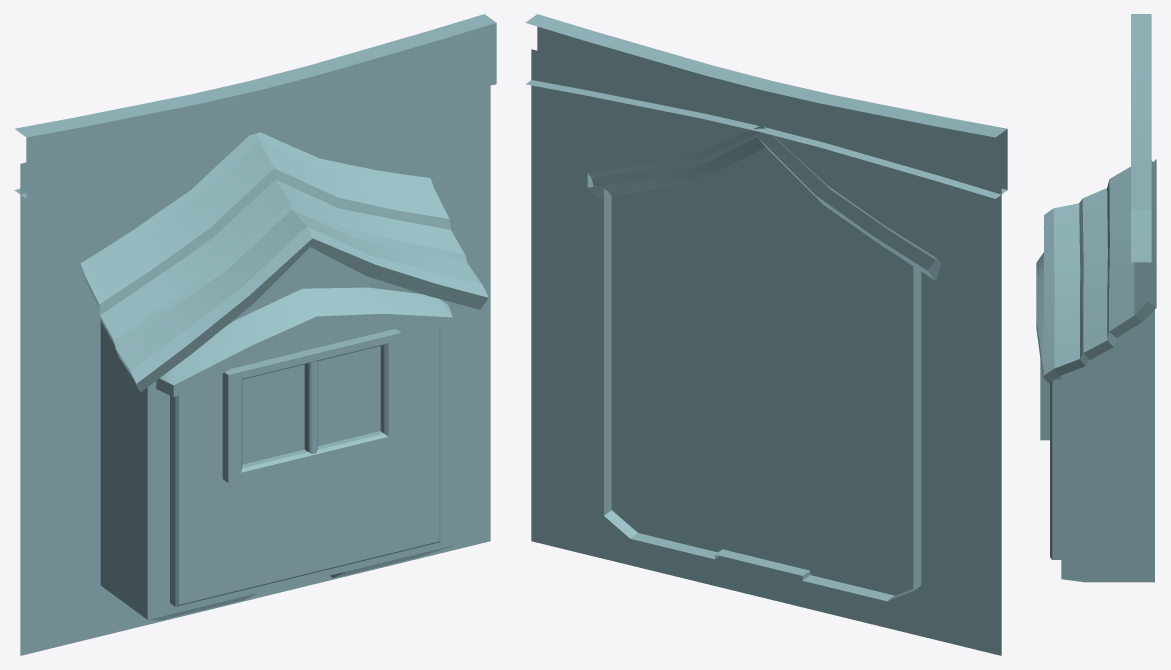
File: Balcony_2.fbx
3 renders of one model, left to right at view 1: azimuth 30°, elevation 25°; view 2: azimuth 150°, elevation 25°; view 3: azimuth 270°, elevation 25°, orthographic. The views are drawn at different scales.
Visible parts, largest first — view 1: Balcony_2; view 2: Balcony_2; view 3: Balcony_2.
Boxes of the visible parts, <box> form: Balcony_2: <box>14,14,496,655</box>; Balcony_2: <box>525,14,1007,655</box>; Balcony_2: <box>1036,14,1156,582</box>.
Size of the model in its own units: 4 by 4.25 by 1.04.
